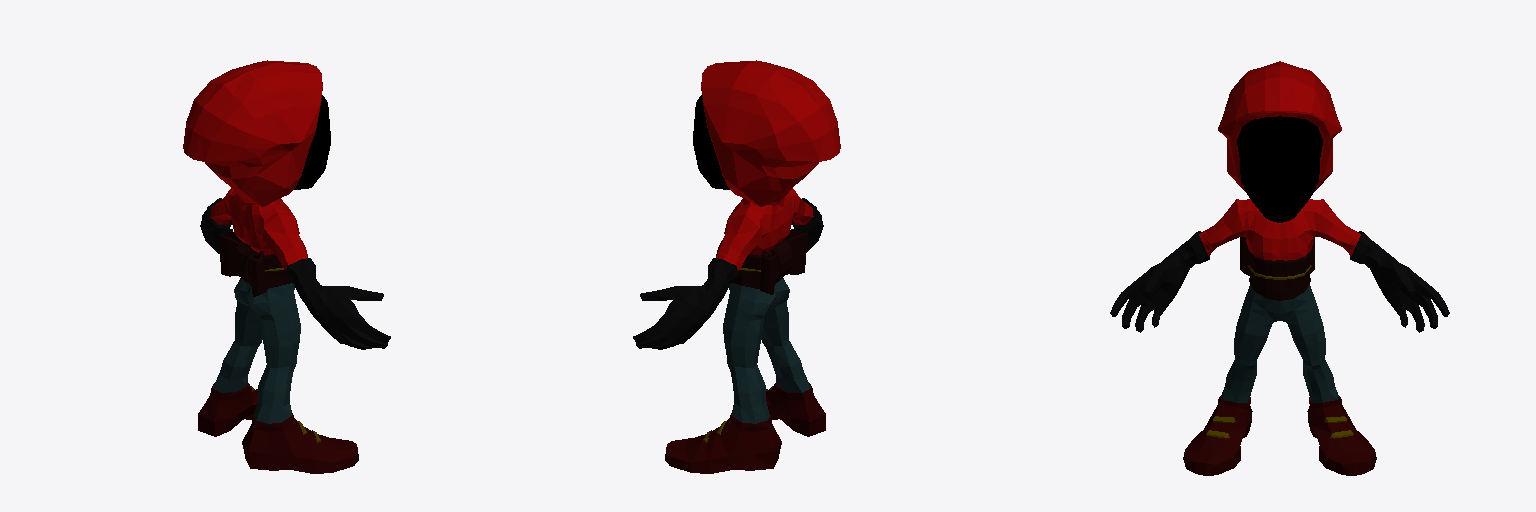
File: Character1.obj
3 views of the same model, side by side, from view 1: azimuth 30°, elevation 25°; view 2: azimuth 150°, elevation 25°; view 3: azimuth 270°, elevation 25° (orthographic).
Parts seen in each view (by area): view 1: Dummy; view 2: Dummy; view 3: Dummy.
Part boxes in pixels (x1,y1,x2,y2): Dummy: (183, 60, 390, 473); Dummy: (633, 60, 840, 473); Dummy: (1110, 61, 1449, 475).
Size of the model in its own units: 3.84 by 10.05 by 8.22.